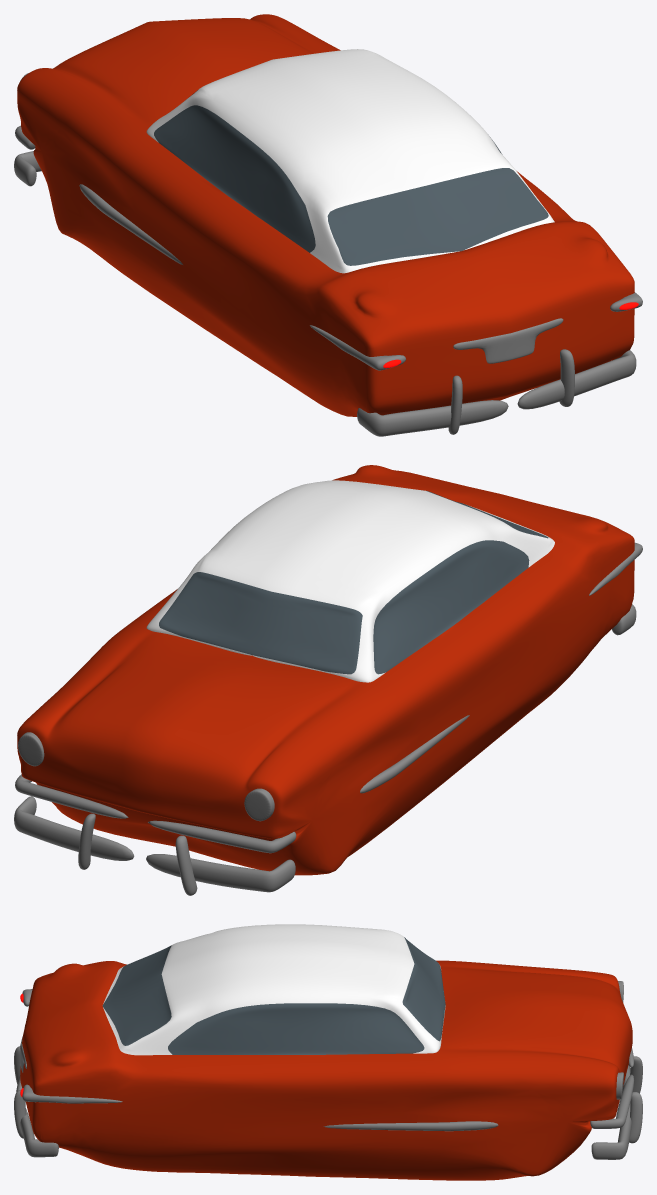
3 renders of one model, top to bottom at view 1: azimuth 30°, elevation 25°; view 2: azimuth 150°, elevation 25°; view 3: azimuth 270°, elevation 25°, orthographic. The views are drawn at different scales.
Parts seen in each view (by area): view 1: car_0001_mesh; view 2: car_0001_mesh; view 3: car_0001_mesh.
Boxes of the visible parts, <box> form: car_0001_mesh: <box>14,14,642,436</box>; car_0001_mesh: <box>14,465,642,895</box>; car_0001_mesh: <box>14,924,642,1180</box>.
Size of the model in its own units: 2.79 by 2.12 by 6.28.
